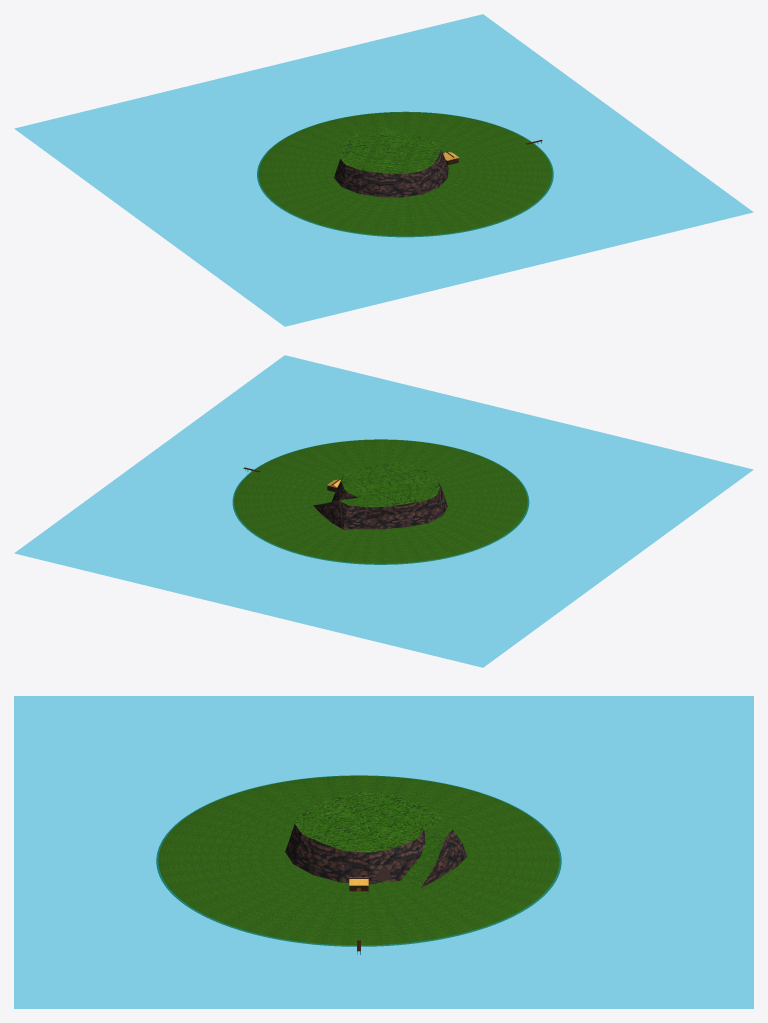
The model's file is World.fbx.
3 views of the same model, one above another, from view 1: azimuth 30°, elevation 25°; view 2: azimuth 150°, elevation 25°; view 3: azimuth 270°, elevation 25° (orthographic). The views are drawn at different scales.
Visible parts, largest first — view 1: Plane, Sphere, Cube.002; view 2: Plane, Sphere, Cube.002; view 3: Plane, Sphere, Cube.002.
Part boxes in pixels (x1,y1,x2,y2): Plane: (14, 14, 753, 326); Sphere: (257, 111, 553, 237); Cube.002: (334, 126, 448, 197); Plane: (14, 355, 753, 667); Sphere: (232, 439, 529, 564); Cube.002: (313, 463, 447, 529); Plane: (14, 696, 753, 1008); Sphere: (156, 775, 561, 946); Cube.002: (285, 792, 466, 888).
Bounding box in the file's own units: 115493 × 5903 × 115493.
11 materials, 10 textured.
